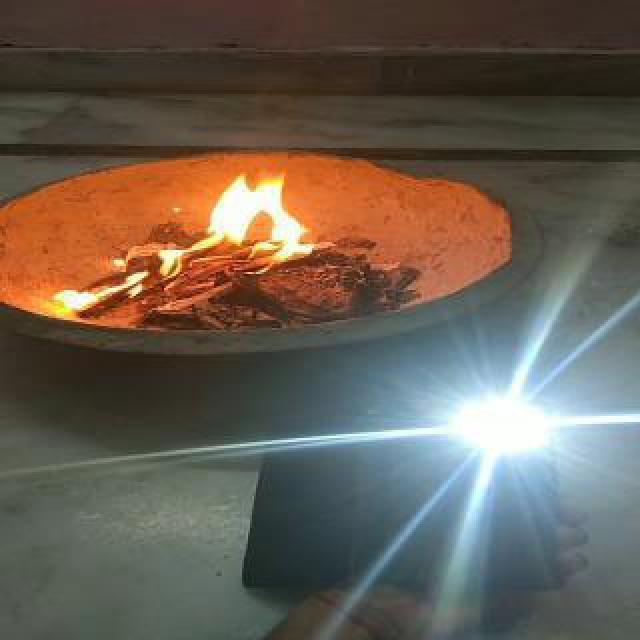Fire: (52, 174, 338, 320)
